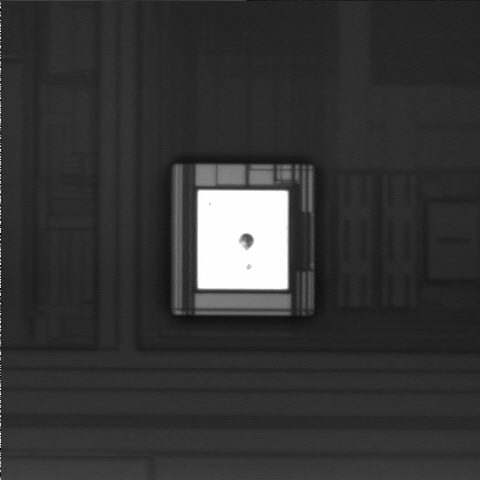pad: (198, 190, 288, 289)
